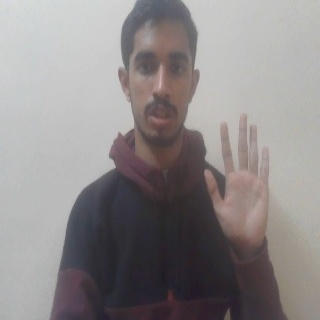Face: (116, 3, 202, 151)
Hello: (202, 111, 272, 249)
